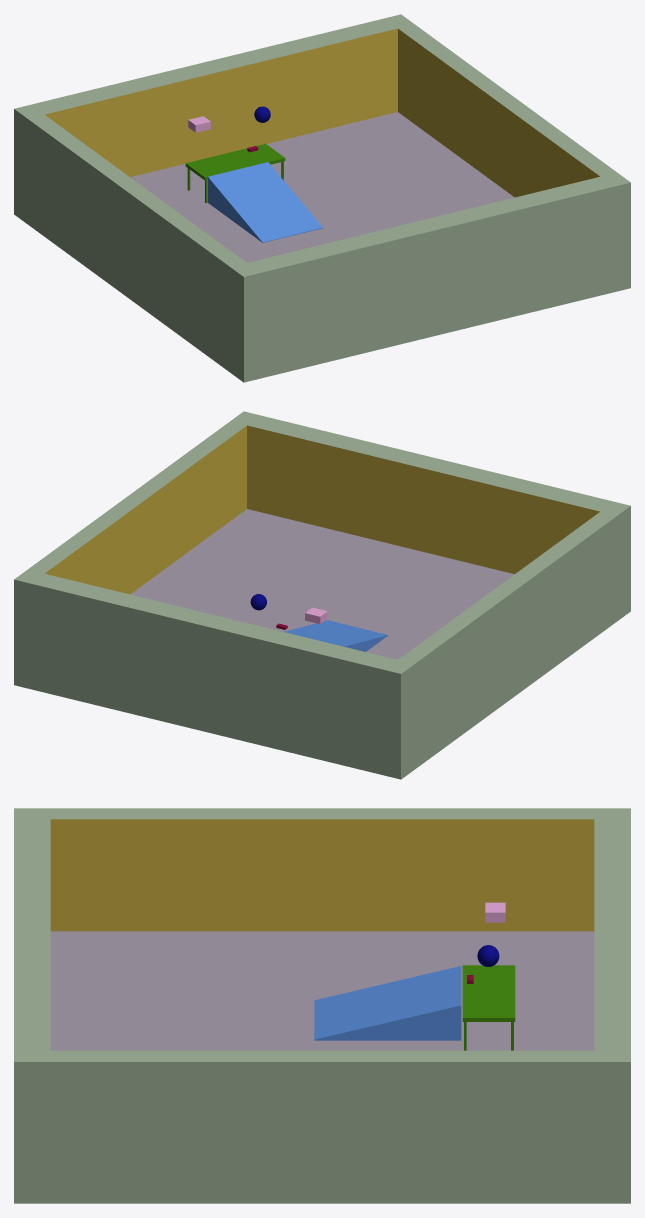
The picture shows the model from 3 angles, top to bottom: view 1: azimuth 30°, elevation 25°; view 2: azimuth 150°, elevation 25°; view 3: azimuth 270°, elevation 25°; orthographic projection. The views are drawn at different scales.
Visible parts, largest first — view 1: room, ramp, table; view 2: room, ramp; view 3: room, ramp, table.
Part boxes in pixels (box(x1,y1,x2,y2)): room: box(14, 14, 630, 382); ramp: box(208, 162, 322, 242); table: box(185, 143, 285, 202); room: box(14, 411, 630, 779); ramp: box(284, 620, 388, 651); room: box(14, 808, 630, 1203); ramp: box(314, 966, 461, 1040); table: box(462, 965, 515, 1050).
Size of the model in its own units: 390 by 401 by 102.
